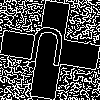U: (25, 25, 68, 76)
